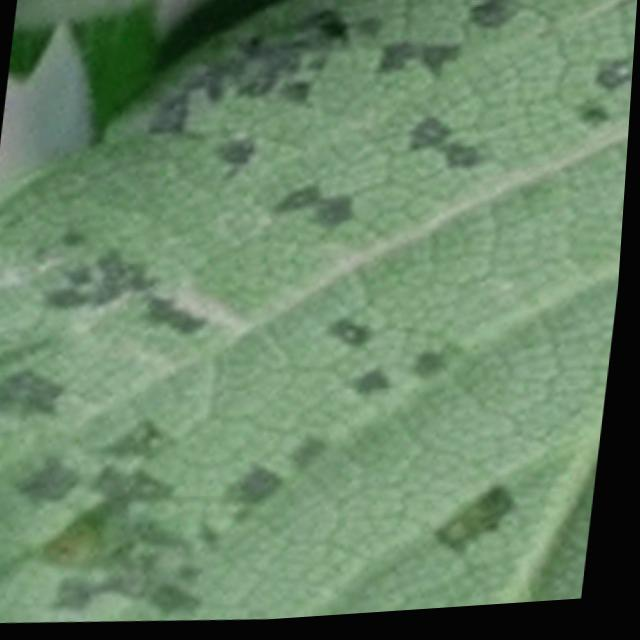Angular Leafspot: (0, 0, 638, 624)
